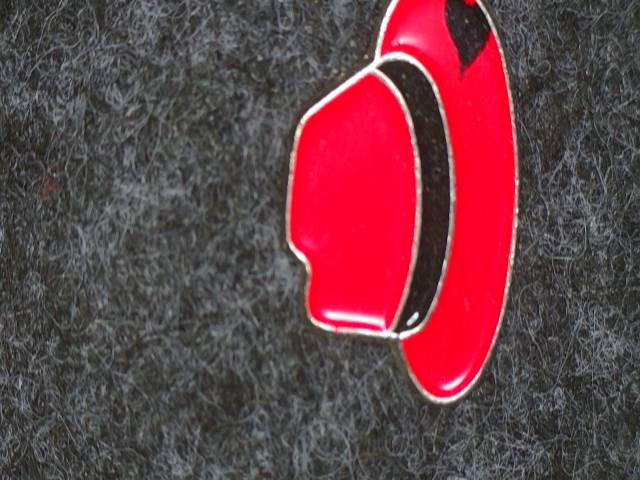Red-Hat: (265, 0, 547, 444)
Scratch: (428, 0, 508, 94)
